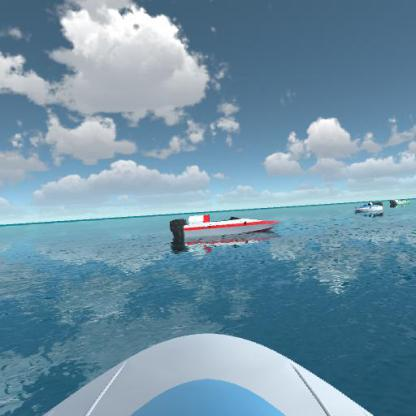usv0: (388, 195, 412, 211)
usv1: (352, 196, 384, 219)
usv3: (167, 211, 282, 250)
